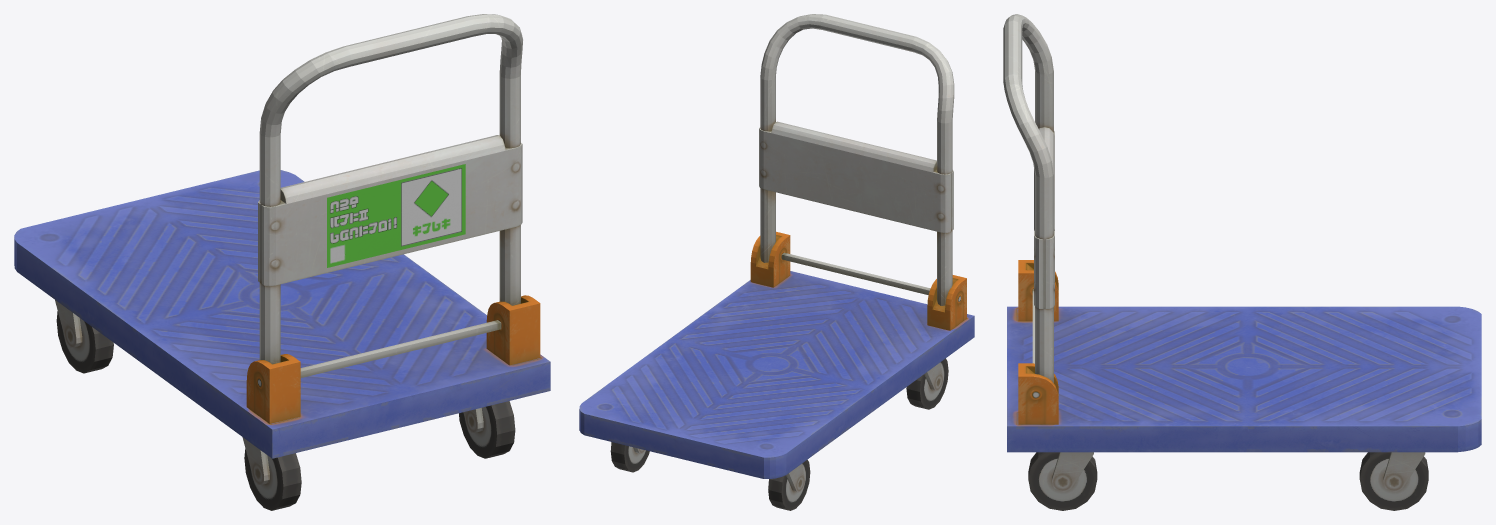
The model's file is P_Trolley_001_S1_M02.obj.
The picture shows the model from 3 angles, left to right: view 1: azimuth 30°, elevation 25°; view 2: azimuth 150°, elevation 25°; view 3: azimuth 270°, elevation 25°; orthographic projection. The views are drawn at different scales.
Size of the model in its own units: 0.8003 by 1.29 by 1.35.
Materials: 1 (1 with a texture image).
